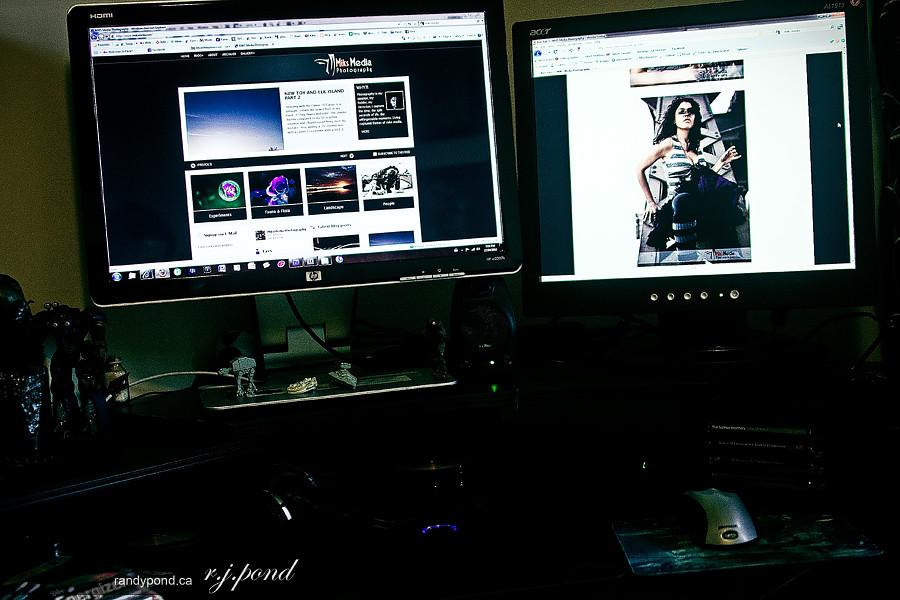computer: (66, 1, 524, 415), (511, 1, 884, 365)
